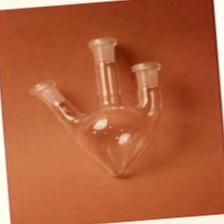Pear shaped flask: (16, 33, 165, 178)
